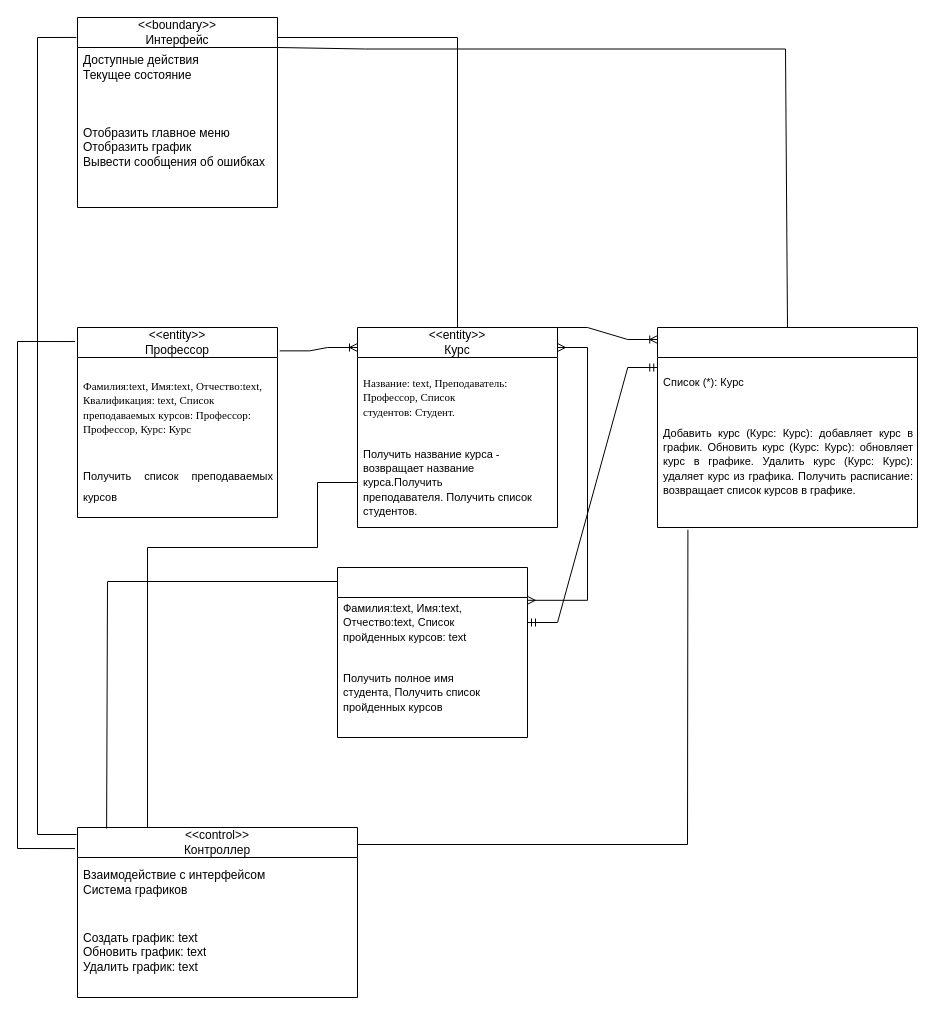
Image size: 935x1015. Some labels were removed from this diagram. Each missing label, with the box of its shape:
<<entity>> График: (656, 326, 918, 528)
<<entity>> Студент: (336, 566, 528, 738)
